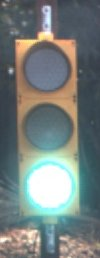Green: (5, 31, 100, 228)
